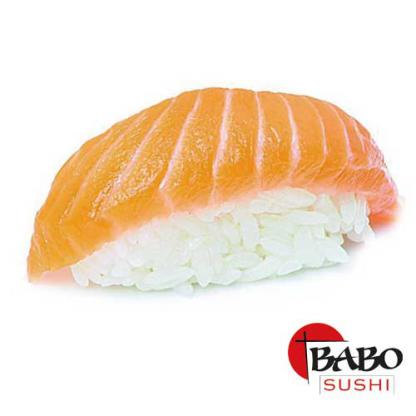sake: (21, 86, 403, 311)
